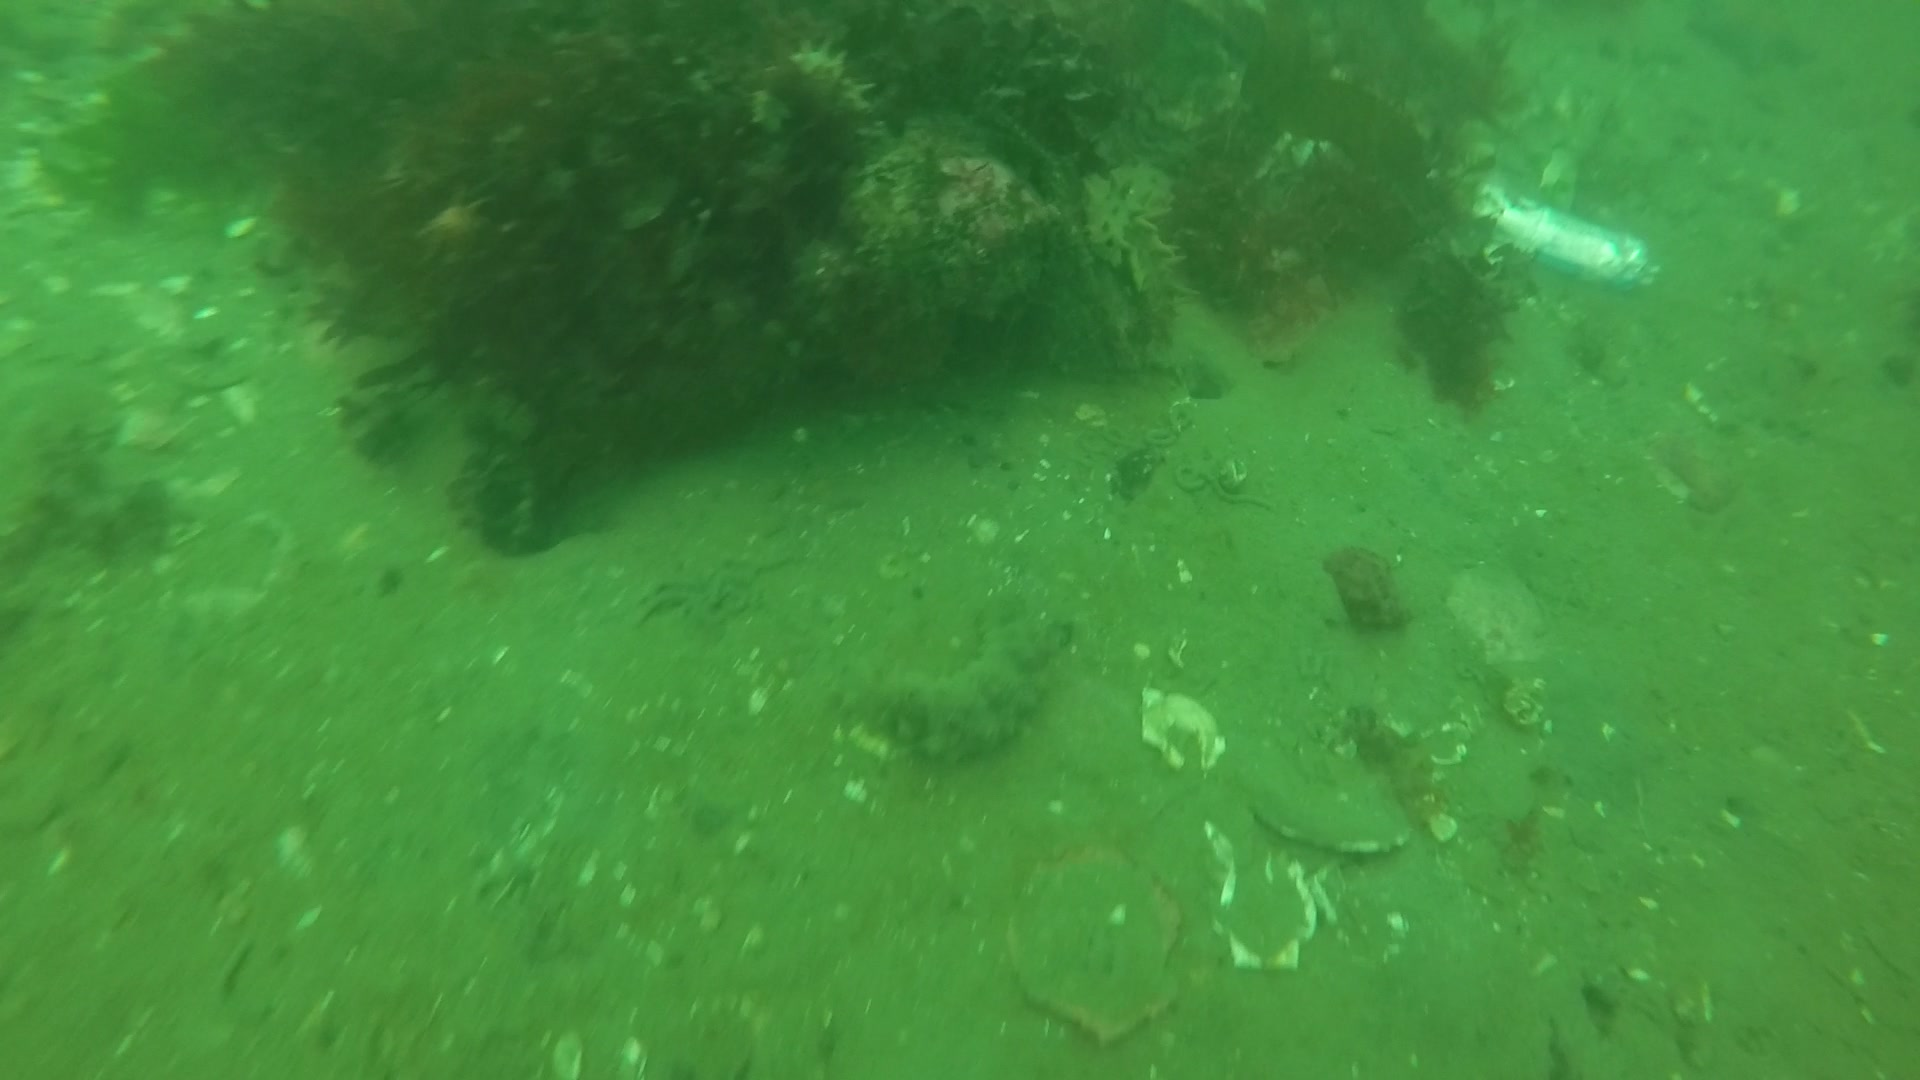holothurian: (858, 589, 1065, 754), (750, 49, 920, 247), (1087, 158, 1201, 342)
scallop: (1007, 848, 1183, 1040), (1242, 746, 1420, 855), (1213, 853, 1323, 975), (1449, 555, 1553, 673), (1145, 690, 1232, 775)
